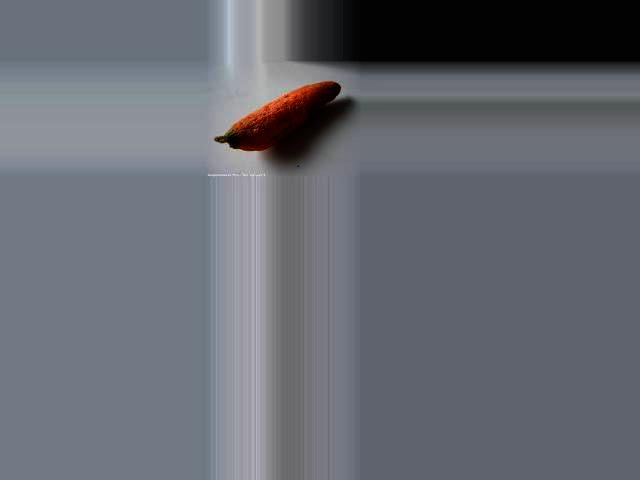carrot: (214, 76, 343, 156)
